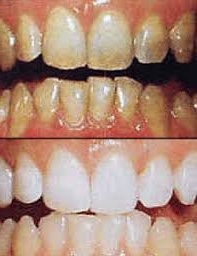Tooth Discoloration: (3, 0, 194, 72), (0, 79, 197, 141)
